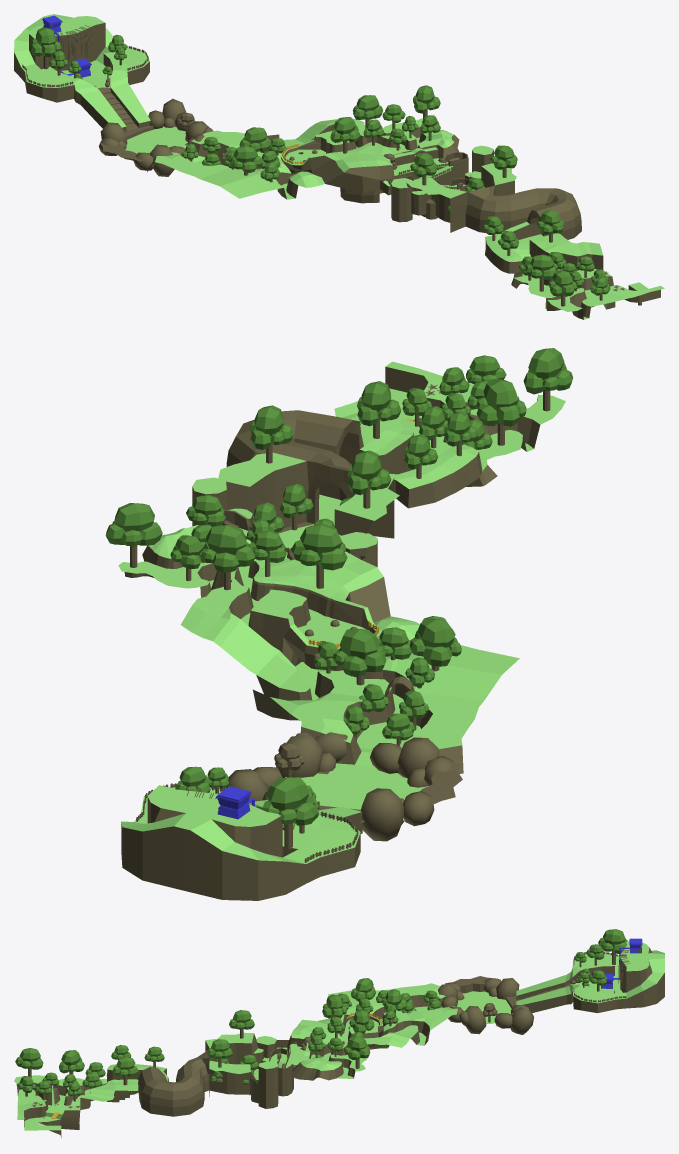
Rendered from arboledav7.fbx.
3 renders of one model, top to bottom at view 1: azimuth 30°, elevation 25°; view 2: azimuth 150°, elevation 25°; view 3: azimuth 270°, elevation 25°, orthographic. The views are drawn at different scales.
Parts seen in each view (by area): view 1: Cube.005; view 2: Cube.005; view 3: Cube.005.
Part boxes in pixels (x1,y1,x2,y2): Cube.005: (14,14,664,319); Cube.005: (105,348,573,900); Cube.005: (14,929,664,1137).
Size of the model in its own units: 28158 by 8945 by 58323.
